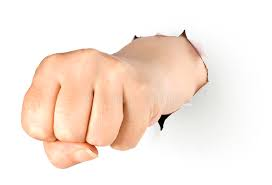fist: (23, 55, 151, 161)
